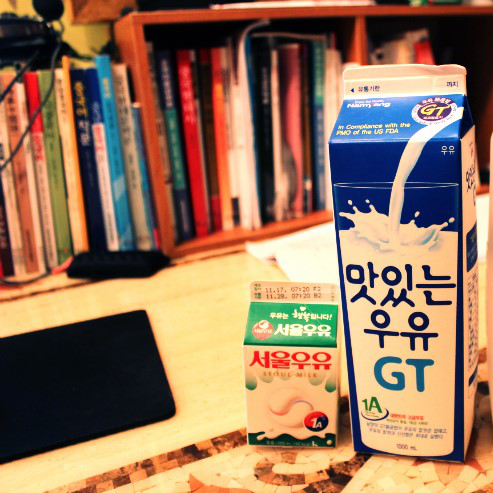milk: (329, 65, 489, 465), (243, 280, 342, 451)
